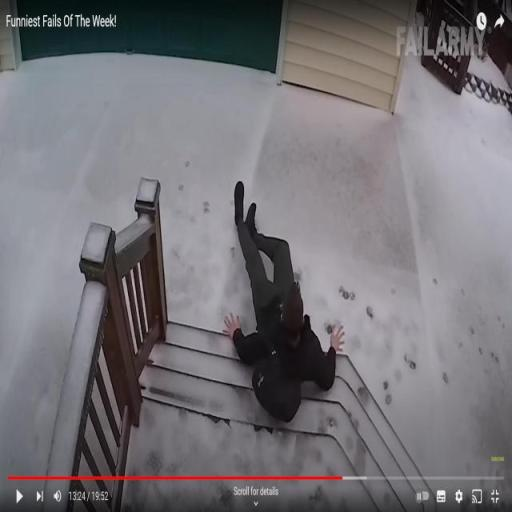Fall: (221, 176, 347, 422)
